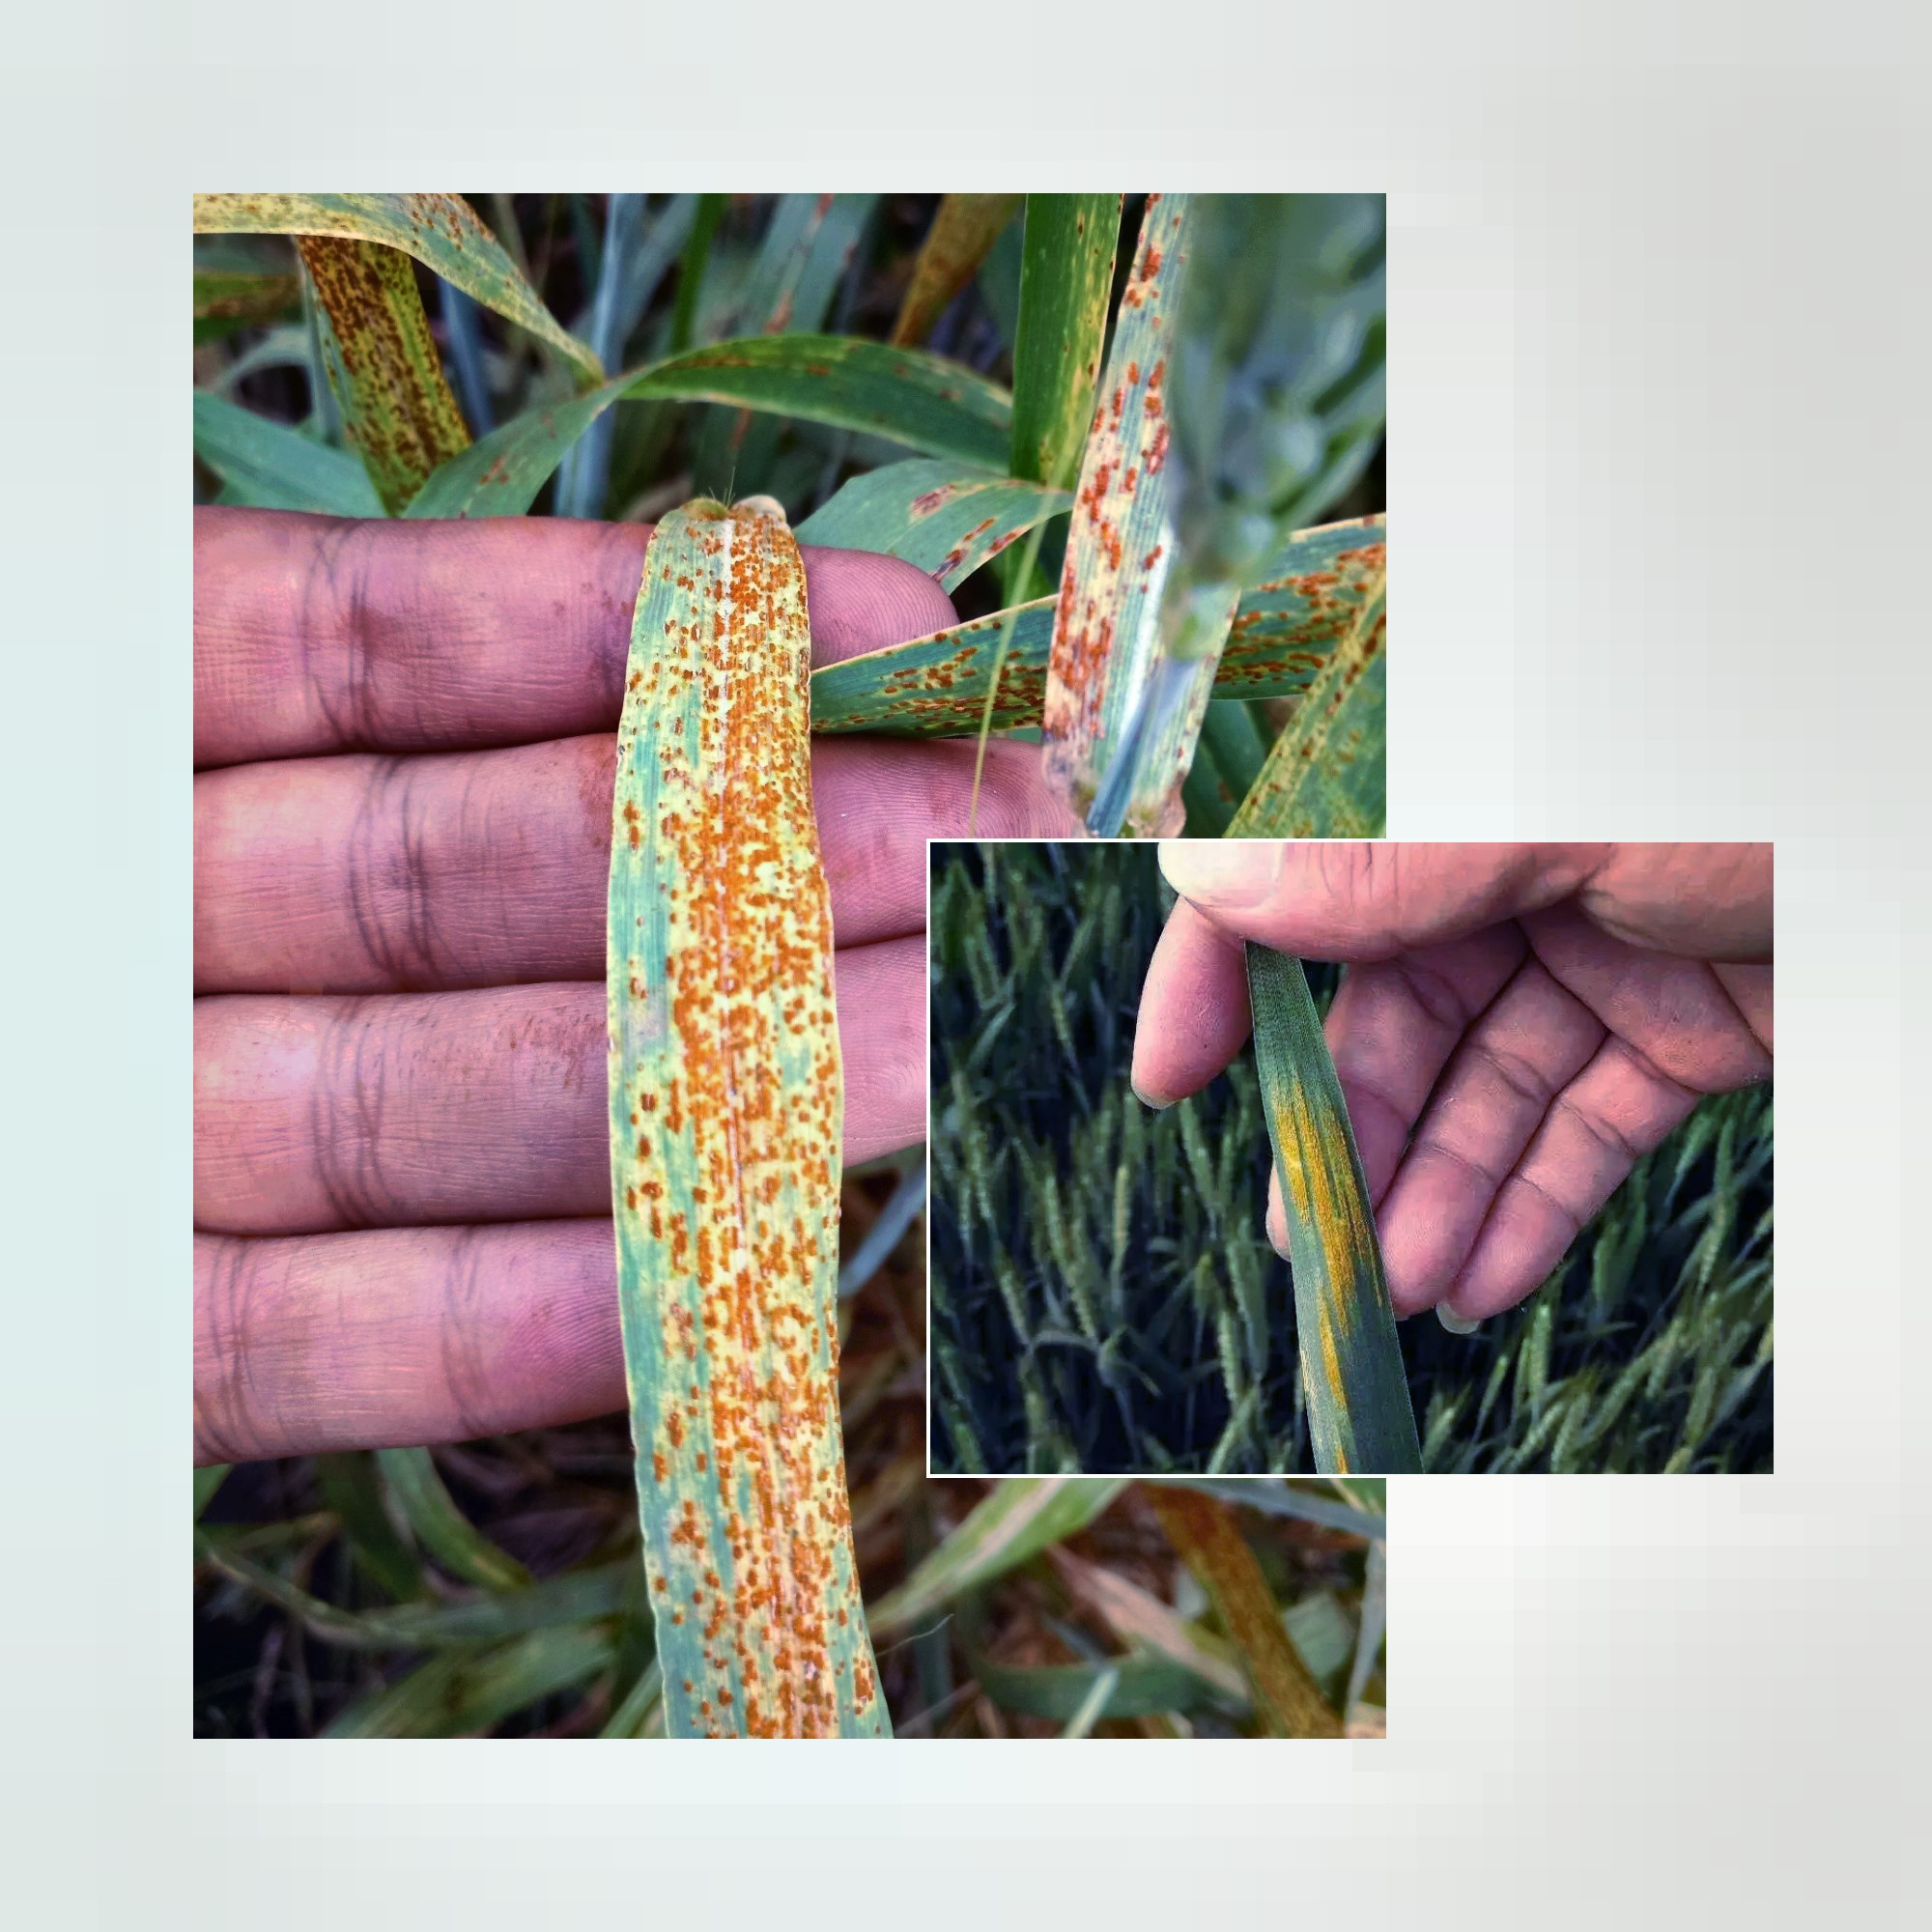Leaf Rust: (602, 510, 901, 1723)
